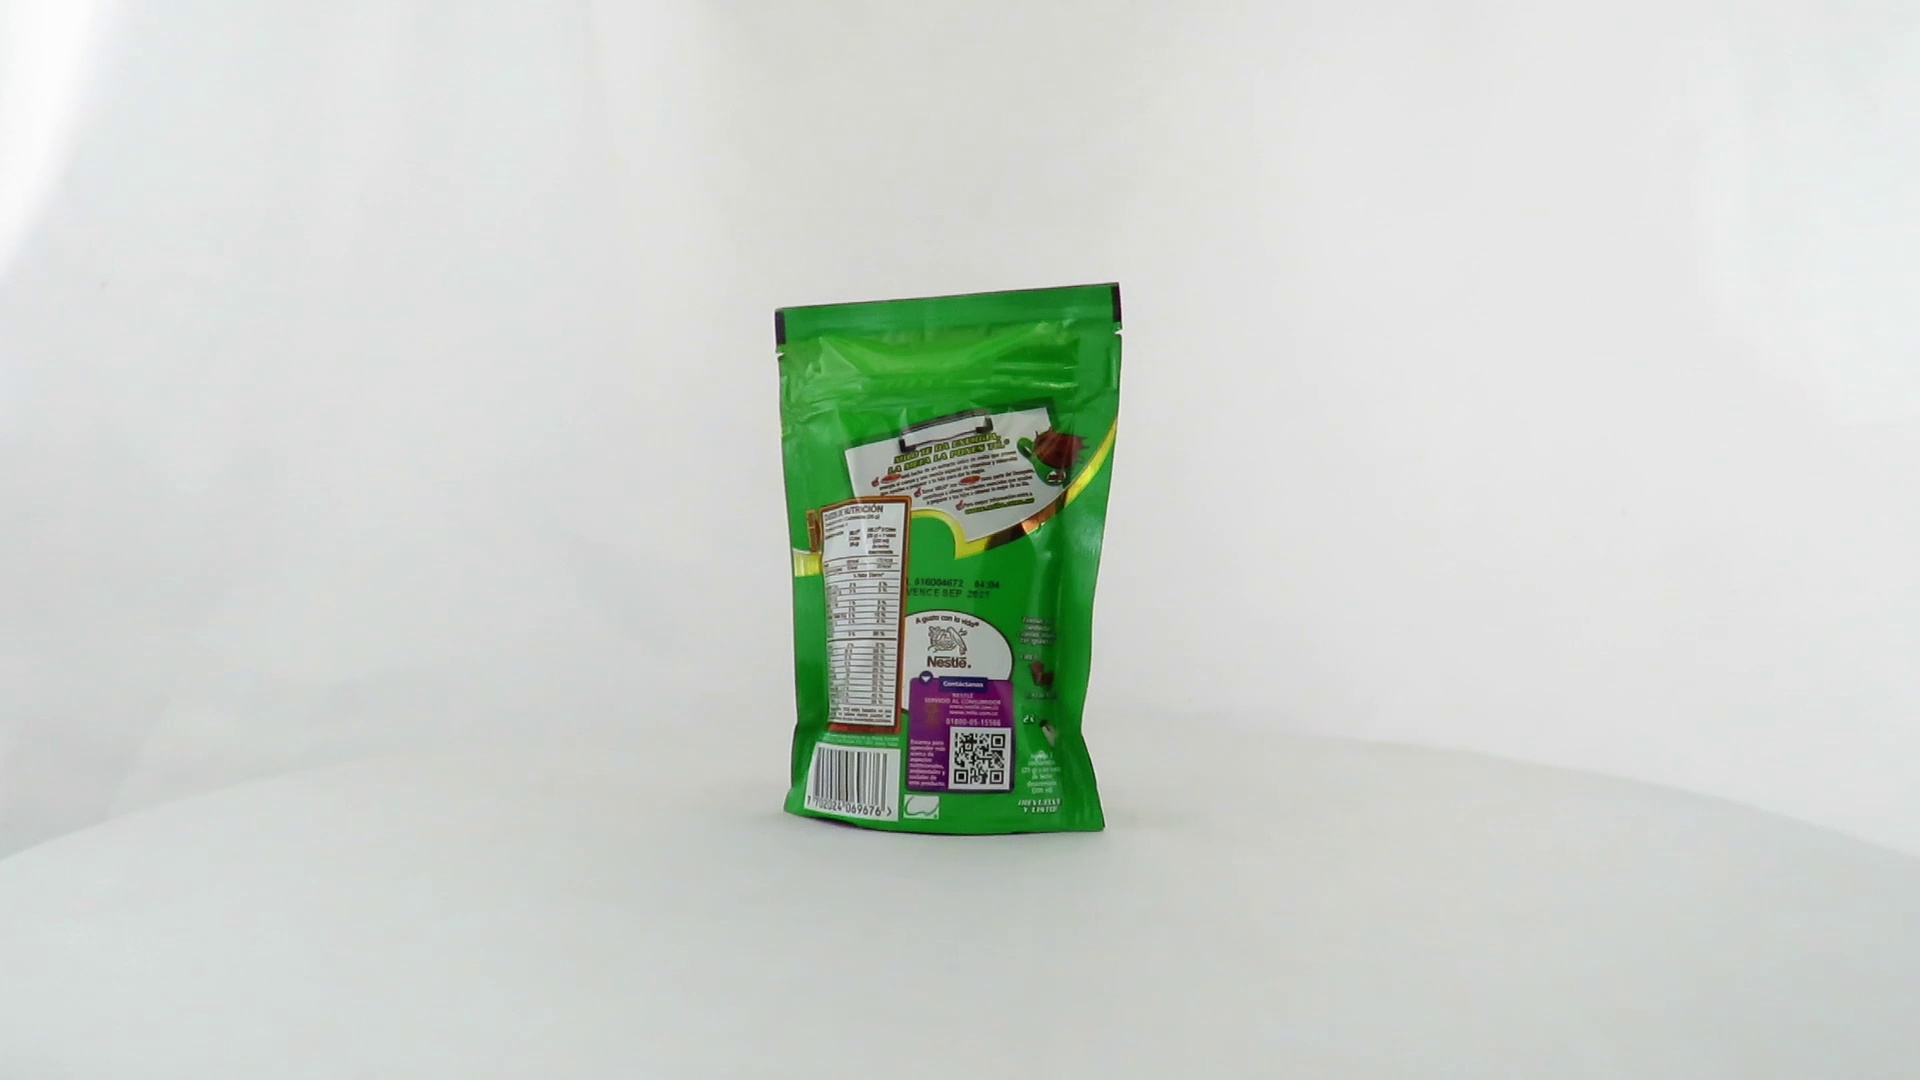COL0170203DYP10000: (769, 277, 1129, 843)
